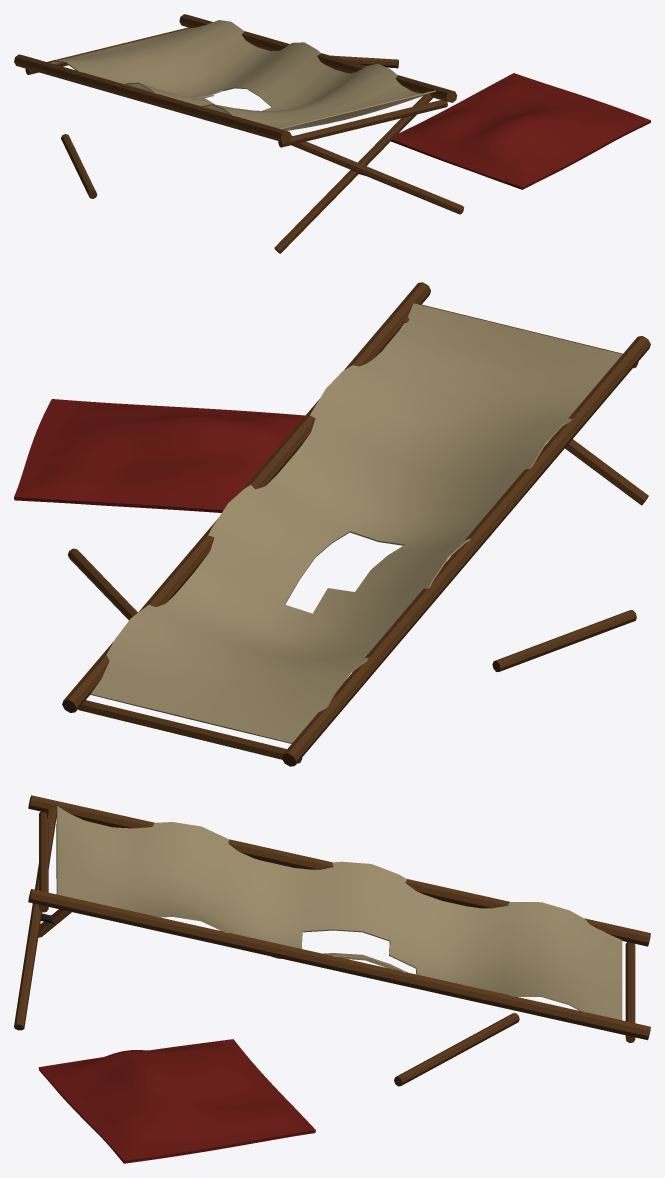
The model's file is feldbett_kaputt.glb.
3 views of the same model, one above another, from view 1: azimuth 30°, elevation 25°; view 2: azimuth 150°, elevation 25°; view 3: azimuth 270°, elevation 25° (orthographic). The views are drawn at different scales.
Parts seen in each view (by area): view 1: feldbett_kaputt; view 2: feldbett_kaputt; view 3: feldbett_kaputt.
Boxes of the visible parts, x1=… form: feldbett_kaputt: x1=14, y1=14, x2=650, y2=253; feldbett_kaputt: x1=14, y1=282, x2=650, y2=766; feldbett_kaputt: x1=14, y1=795, x2=650, y2=1163.
Size of the model in its own units: 2 by 0.5063 by 1.9.
